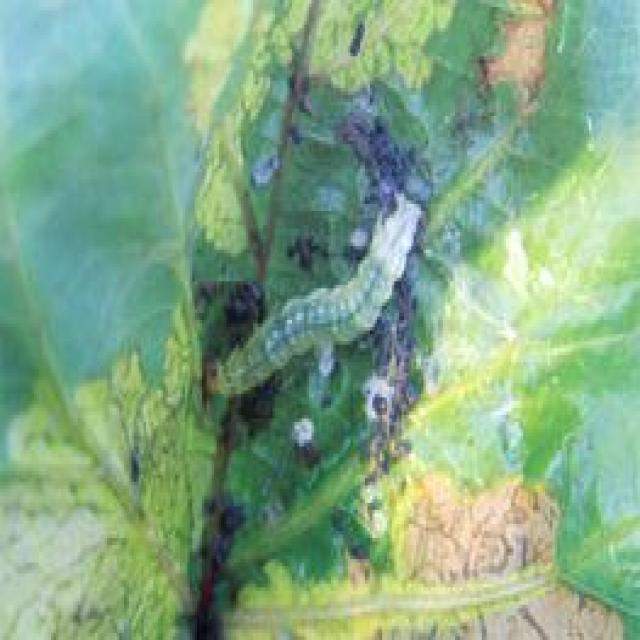BeetArmyWorm-Larva-: (192, 197, 425, 400)
